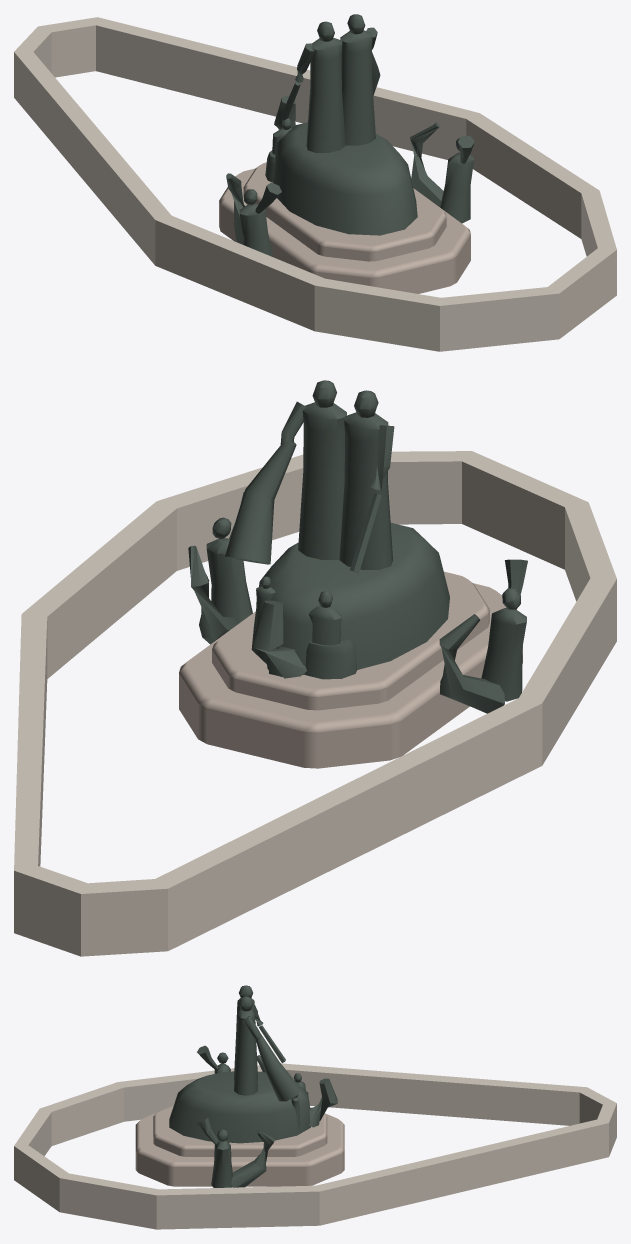
The model's file is nyc-bailey-fountain.glb.
3 views of the same model, one above another, from view 1: azimuth 30°, elevation 25°; view 2: azimuth 150°, elevation 25°; view 3: azimuth 270°, elevation 25° (orthographic). The views are drawn at different scales.
Parts seen in each view (by area): view 1: Bailey Fountain; view 2: Bailey Fountain; view 3: Bailey Fountain.
Part boxes in pixels (x1=…): Bailey Fountain: x1=14, y1=14, x2=616, y2=351; Bailey Fountain: x1=14, y1=380, x2=616, y2=956; Bailey Fountain: x1=14, y1=985, x2=616, y2=1229.
Bounding box in the file's own units: 10.79 × 6.33 × 20.78.
